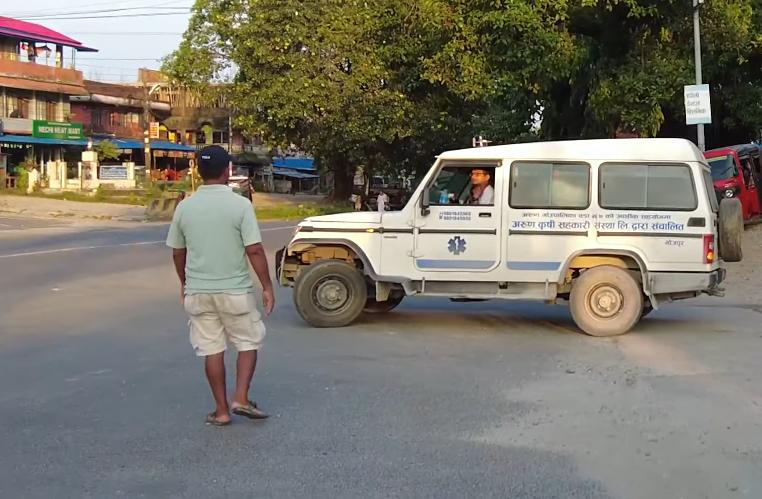ambulance: (264, 132, 749, 340)
